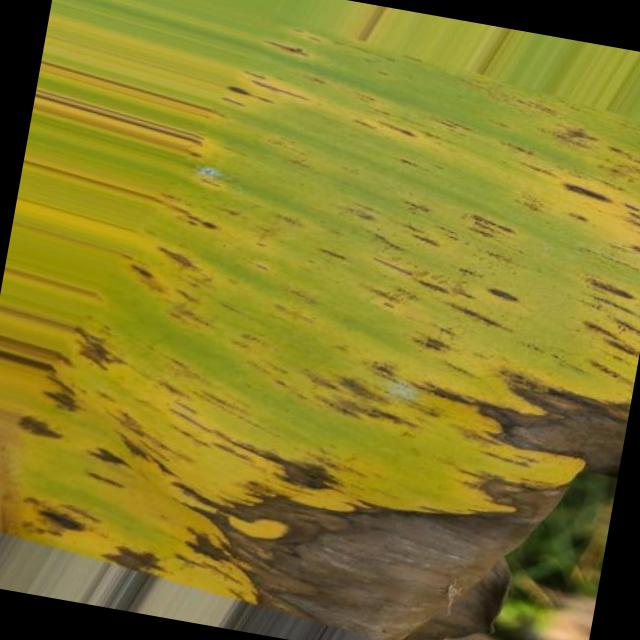Banana_Black_Sigatoka: (197, 18, 640, 446), (40, 319, 570, 640)
